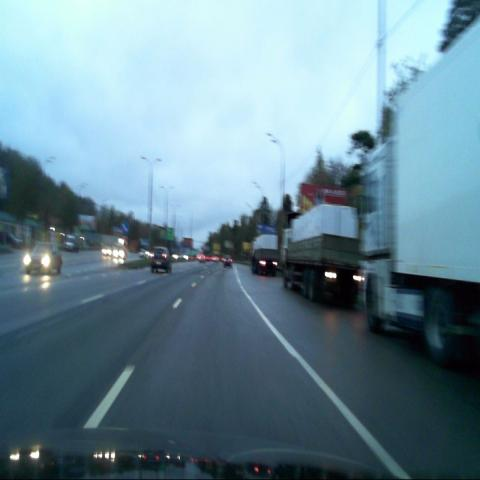4_2_1: (121, 222, 129, 236)
